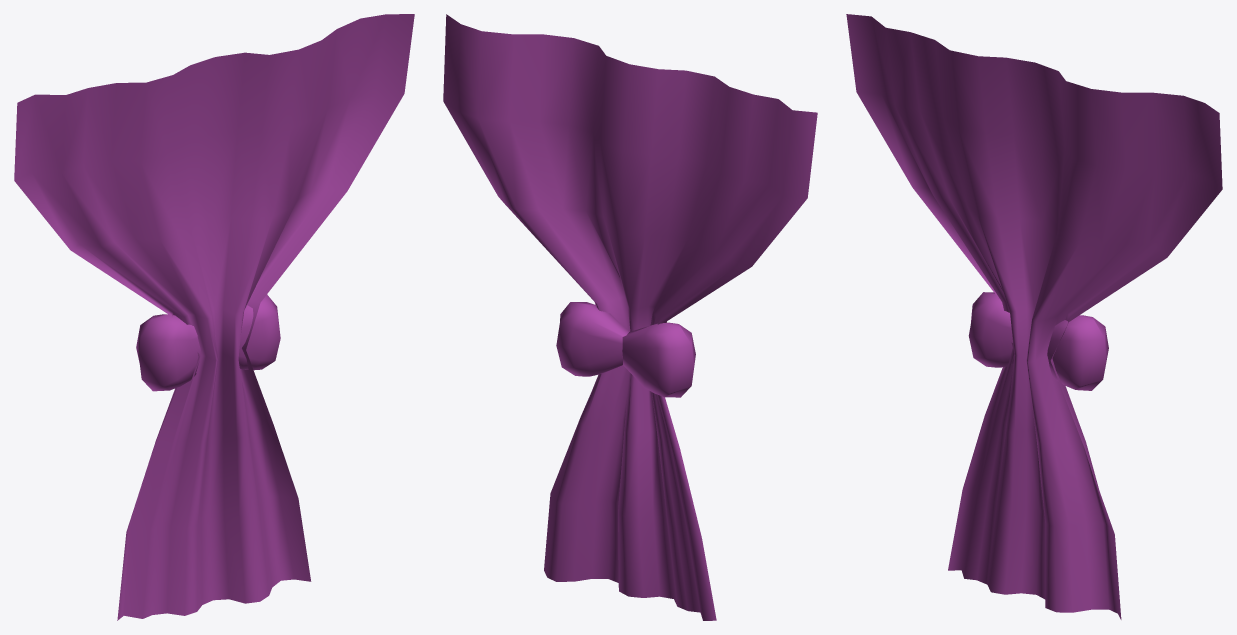
The model's file is mesh_CortinaCurva1.fbx.
3 views of the same model, side by side, from view 1: azimuth 30°, elevation 25°; view 2: azimuth 150°, elevation 25°; view 3: azimuth 330°, elevation 25° (orthographic). The views are drawn at different scales.
Visible parts, largest first — view 1: mesh_CortinaCurva1; view 2: mesh_CortinaCurva1; view 3: mesh_CortinaCurva1.
Boxes of the visible parts, x1,y1,x2,y2 form: mesh_CortinaCurva1: (14,14,414,620); mesh_CortinaCurva1: (443,14,817,620); mesh_CortinaCurva1: (846,14,1222,619).
Size of the model in its own units: 2156 by 2882 by 318.
